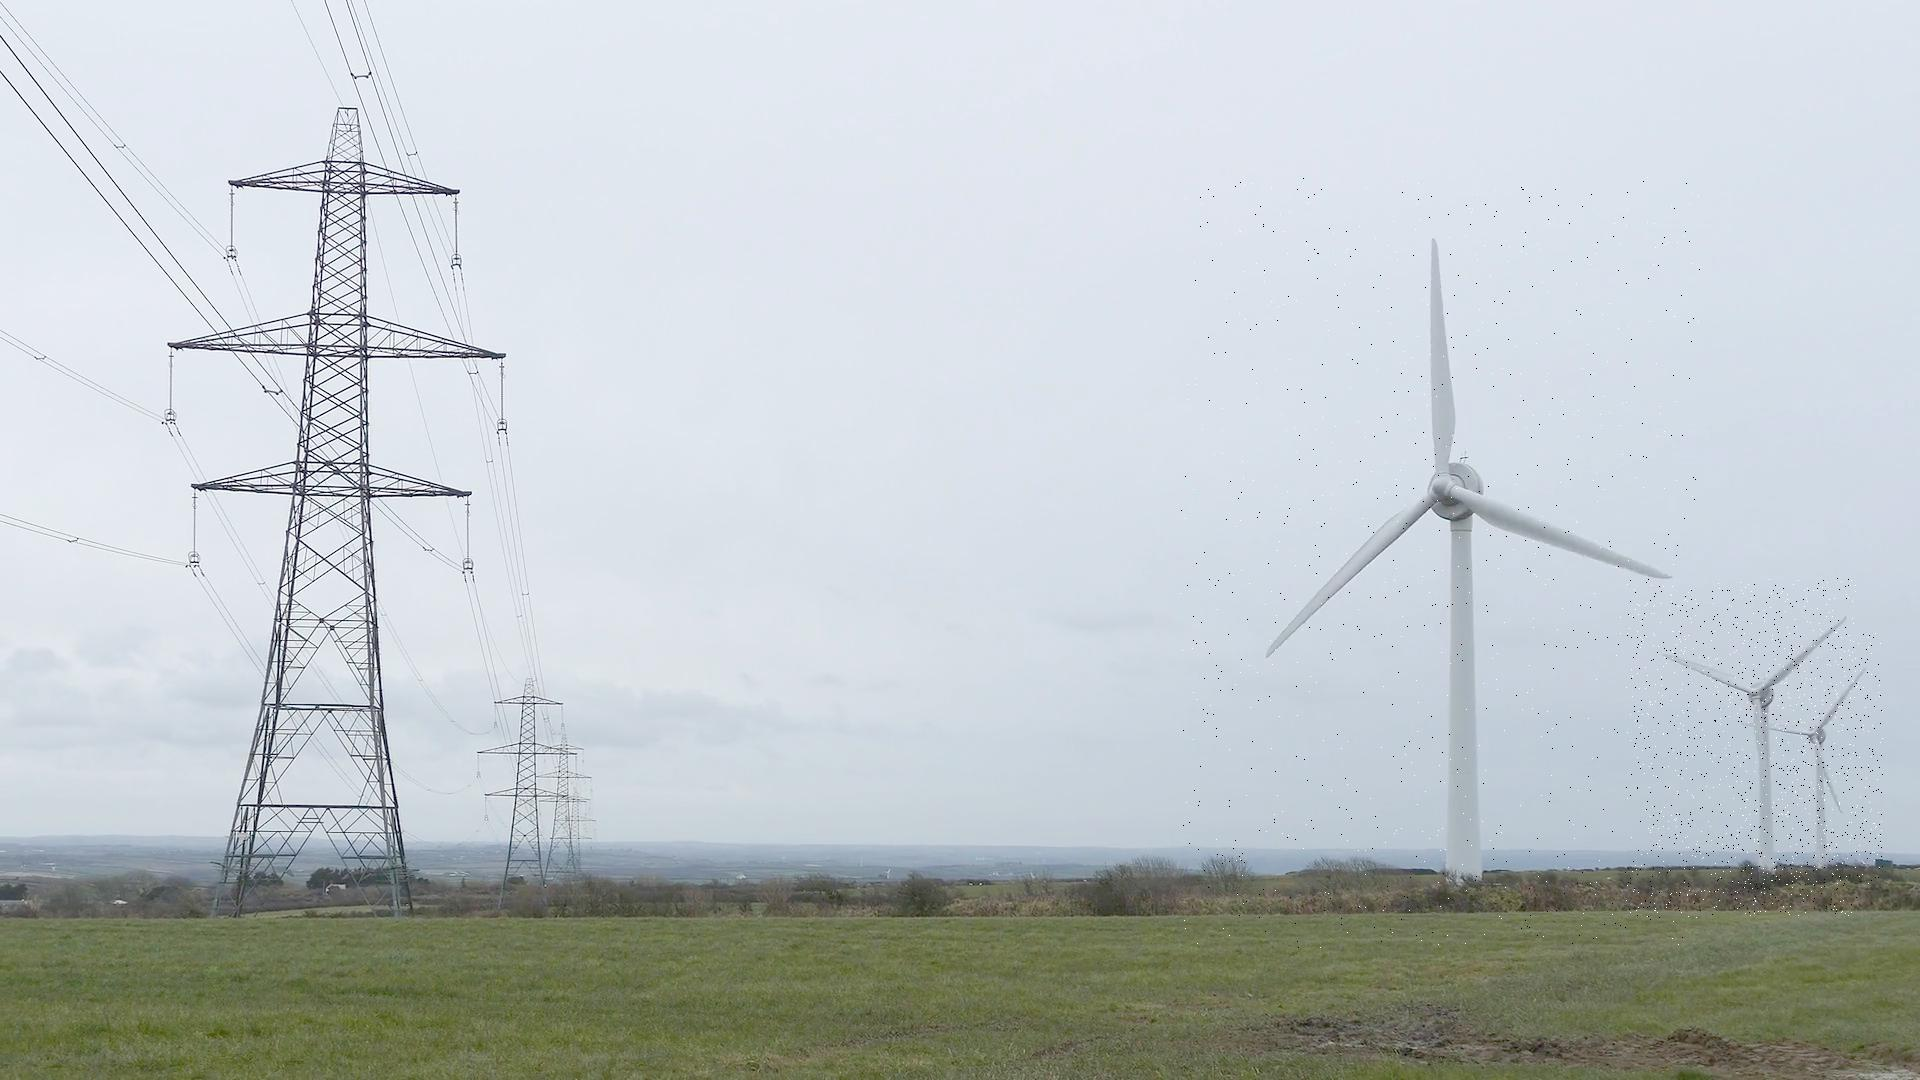cable tower: (162, 104, 506, 923), (477, 676, 576, 920), (535, 729, 585, 889), (553, 790, 595, 889)
turbine: (1180, 175, 1702, 949), (1627, 579, 1857, 918), (1727, 633, 1883, 887)
